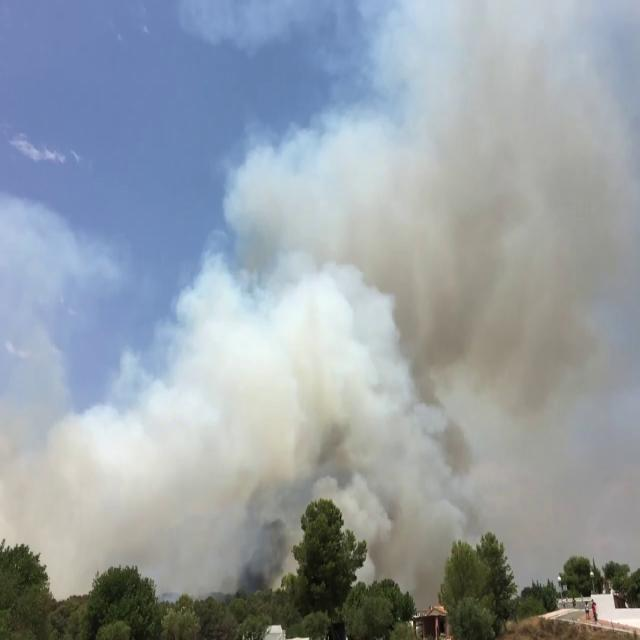Smoke: (180, 0, 640, 583)
